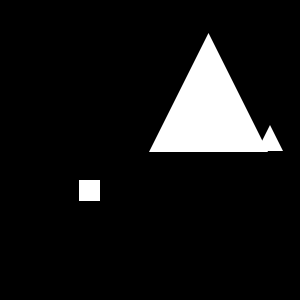circle: (79, 180, 100, 201)
triangle: (149, 33, 268, 152), (257, 125, 283, 151)
